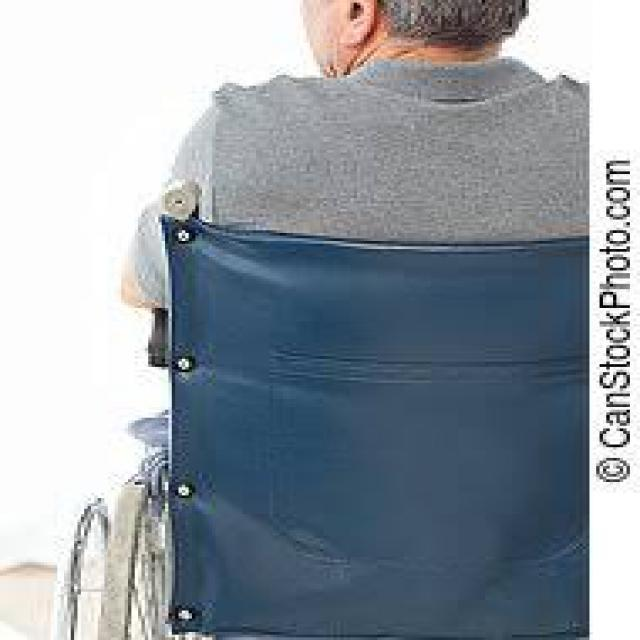wheelchairs: (47, 168, 590, 638)
